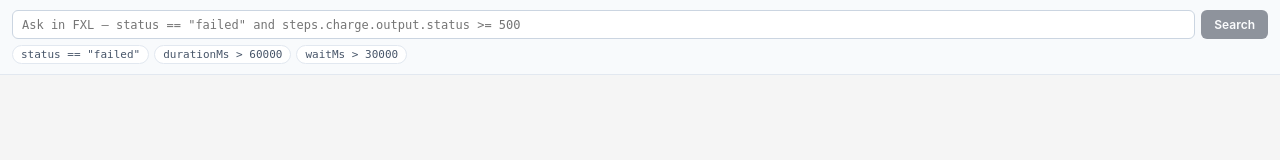
Test case: RunQueryBar › points a caret at the character the parser stopped on
This screenshot has width=1280, height=160.
Replace the text in the field named "Filter runs with an FXL predicate" with "status ==". click: (604, 24)
box: [12,10,1195,39]
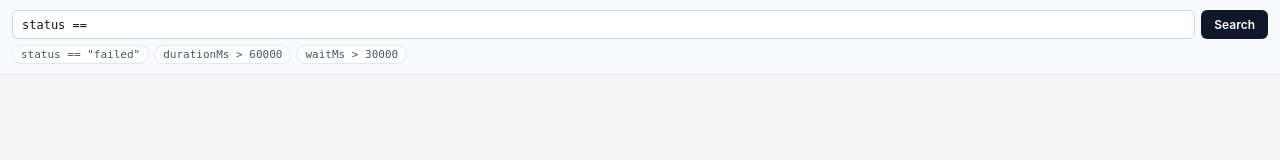
Click the button "Search". click: click(1235, 24)
box: [1201,10,1268,39]
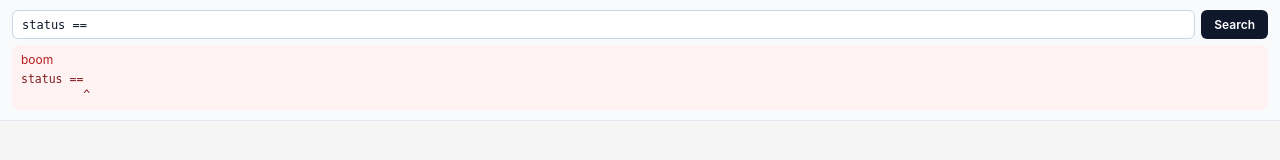
Expected: the message "boom status == ^" is shown, [12,45,1268,110]
